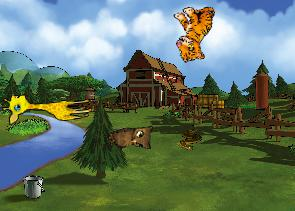giraffe: (1, 87, 93, 125)
owl: (105, 120, 158, 160)
tiger: (168, 1, 223, 63)
